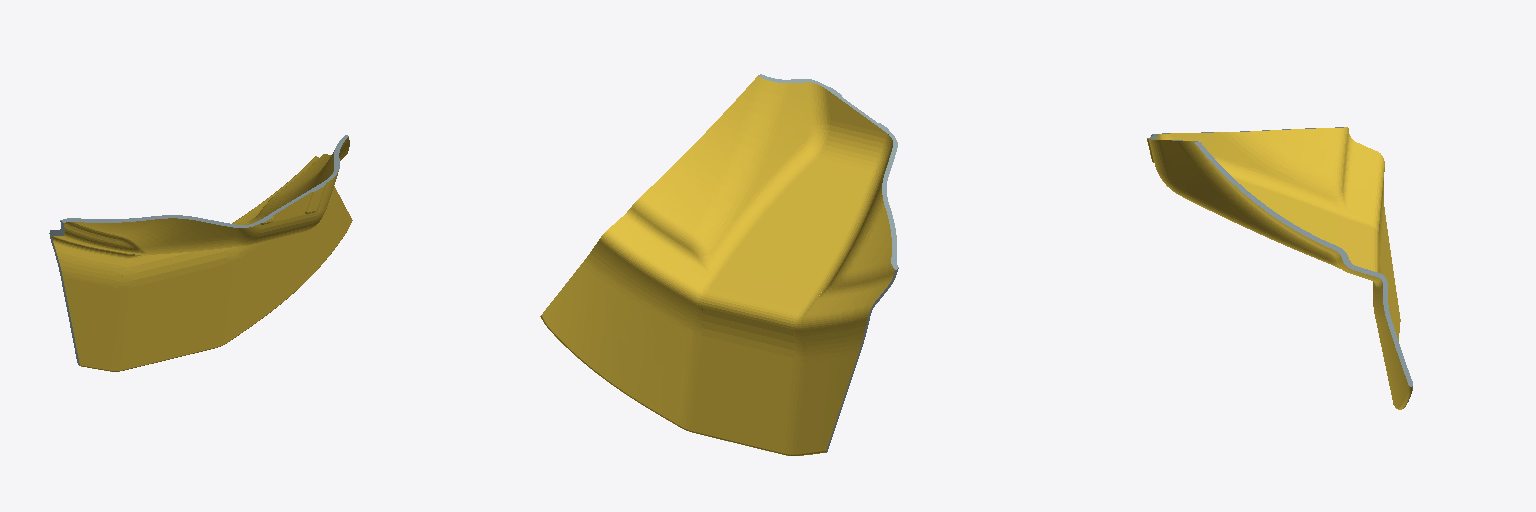
Rendered from Body18.obj.
3 renders of one model, left to right at view 1: azimuth 30°, elevation 25°; view 2: azimuth 150°, elevation 25°; view 3: azimuth 270°, elevation 25°, orthographic.
Parts seen in each view (by area): view 1: Body18; view 2: Body18; view 3: Body18.
Boxes of the visible parts, <box> form: Body18: <box>49,135,352,371</box>; Body18: <box>540,74,898,455</box>; Body18: <box>1147,127,1412,409</box>.
Bounding box in the file's own units: 1.56 × 1.28 × 1.11.